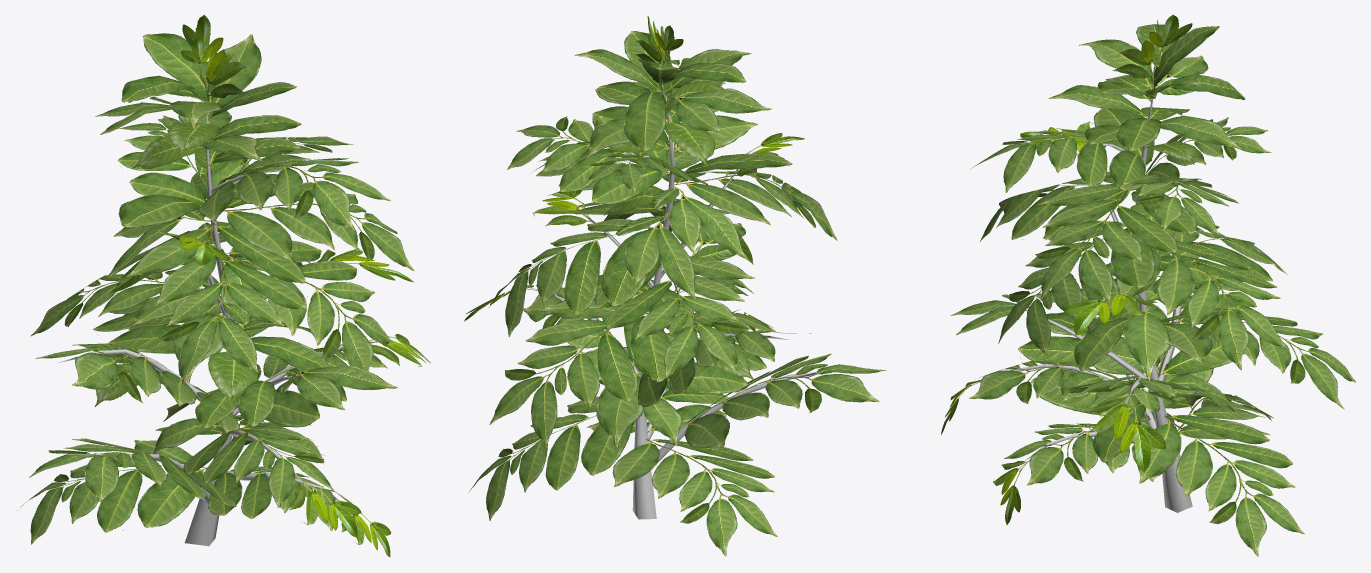
The model's file is Bush_04.fbx.
3 views of the same model, side by side, from view 1: azimuth 30°, elevation 25°; view 2: azimuth 150°, elevation 25°; view 3: azimuth 270°, elevation 25° (orthographic). The views are drawn at different scales.
Parts seen in each view (by area): view 1: BushSmall_02; view 2: BushSmall_02; view 3: BushSmall_02.
Boxes of the visible parts, bbox=[...] form: BushSmall_02: bbox=[17, 15, 430, 557]; BushSmall_02: bbox=[464, 16, 886, 556]; BushSmall_02: bbox=[941, 14, 1355, 556].
Bounding box in the file's own units: 104 × 123 × 100.
